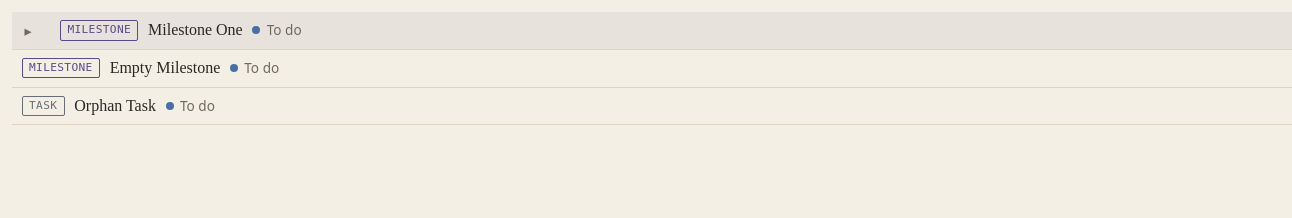
Scenario: HierarchyList › renders a nested task at a greater indent than its epic
What coordinates should you click on to do the following:
click the button named "Expand Milestone One"
I would click on:
 (28, 30)
Its box is [12,14,44,46].
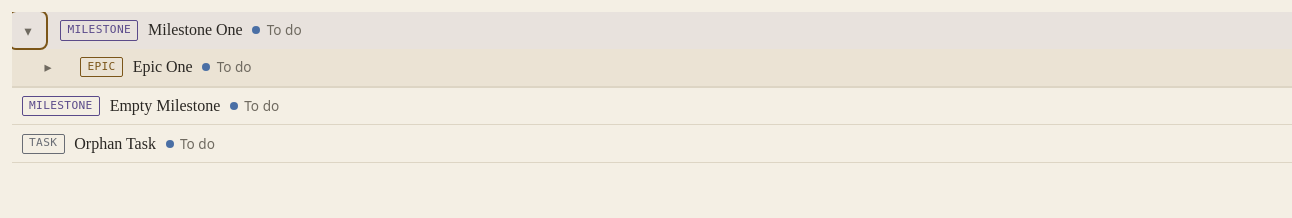
What coordinates should you click on to do the following:
click the button named "Expand Epic One"
I would click on:
 (48, 67)
Its box is [32,51,64,83].
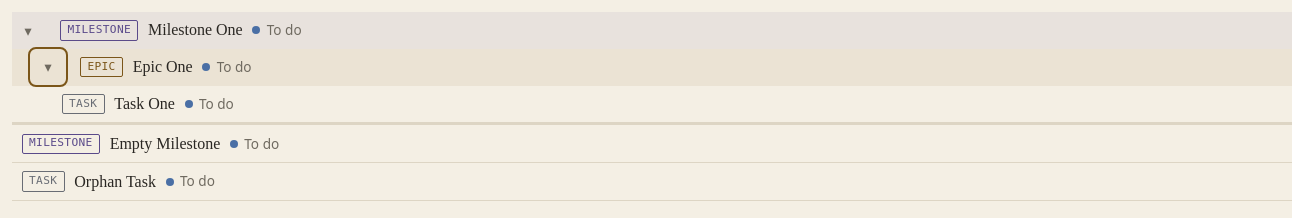
Expected: the list item "Epic One" is shown, [70,49,261,86]
Expected: the list item "Task One" is shown, [52,86,243,122]
